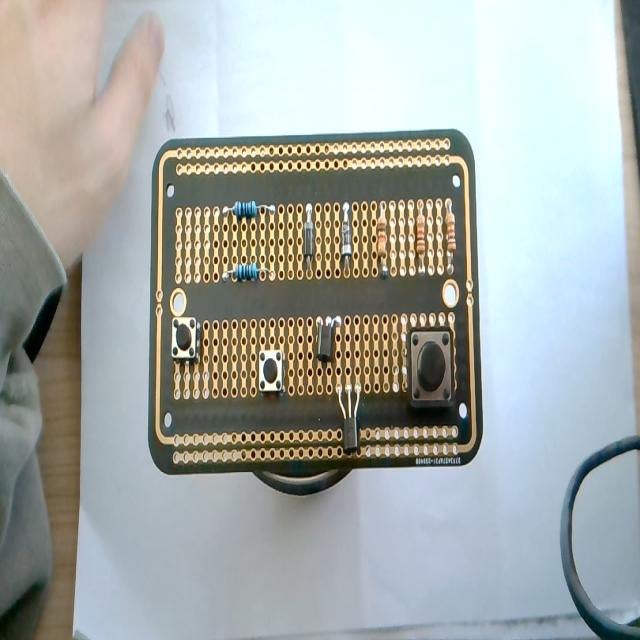diode: (341, 200, 353, 276), (303, 204, 315, 272)
resistor: (222, 264, 276, 284), (223, 200, 277, 220), (376, 209, 388, 275), (414, 211, 426, 272), (446, 208, 456, 268)
switch: (408, 326, 453, 405), (171, 316, 199, 361), (259, 350, 283, 392)
transistor: (337, 380, 360, 452), (314, 315, 340, 362)
